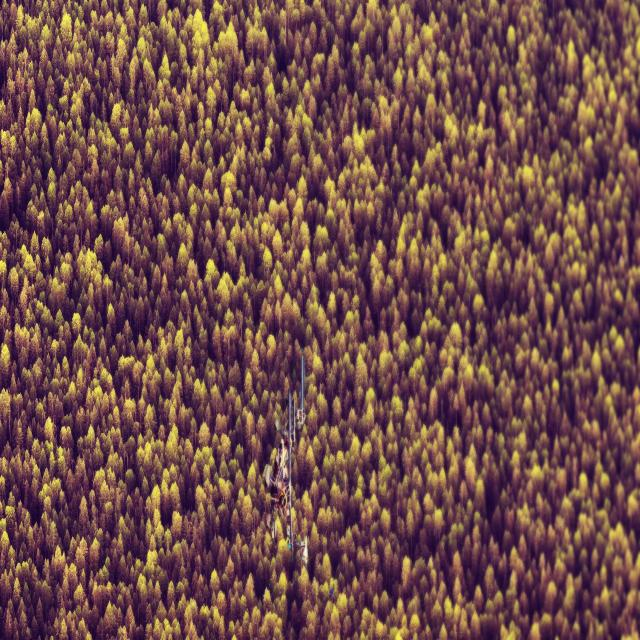airplane: (264, 353, 308, 568)
